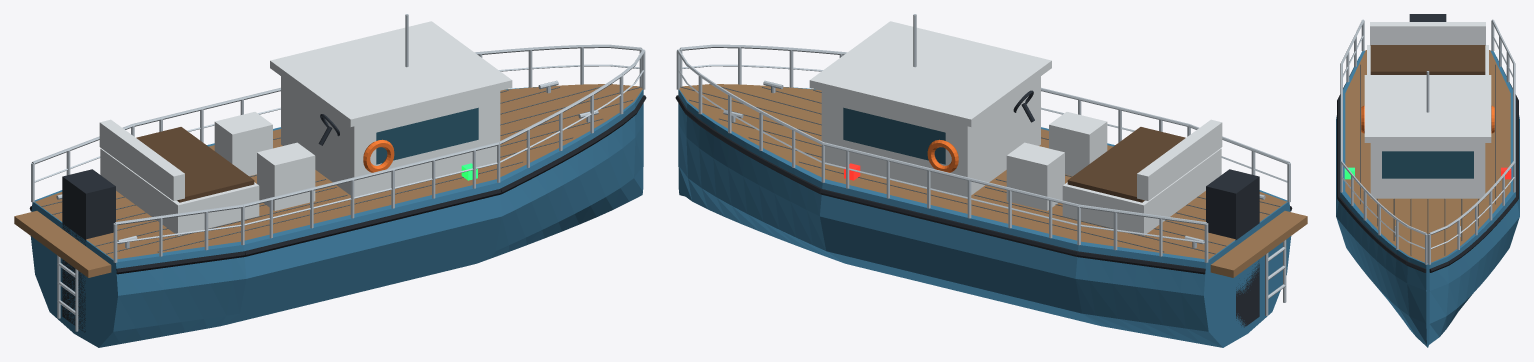
File: motorboat_lod0.glb
3 renders of one model, left to right at view 1: azimuth 30°, elevation 25°; view 2: azimuth 150°, elevation 25°; view 3: azimuth 270°, elevation 25°, orthographic. The views are drawn at different scales.
Parts seen in each view (by area): view 1: body; view 2: body; view 3: body.
Boxes of the visible parts, x1=… form: body: x1=14, y1=14, x2=646, y2=347; body: x1=675, y1=14, x2=1307, y2=347; body: x1=1336, y1=14, x2=1519, y2=347.
Bounding box in the file's own units: 7.3 × 2.8 × 2.5.
